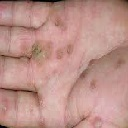Wart: (22, 39, 58, 64)
